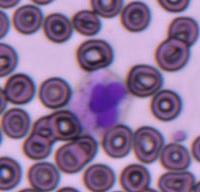N: (71, 70, 130, 134)
